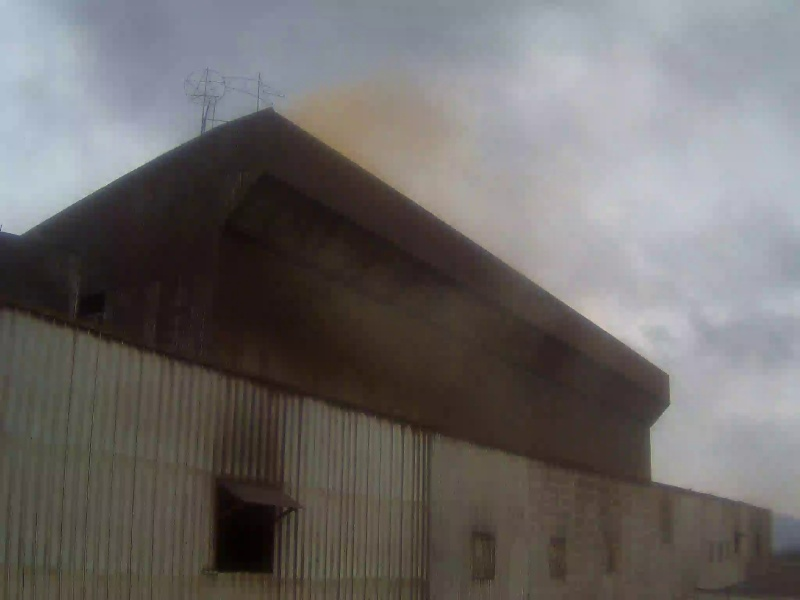bom: (9, 12, 270, 145)
ruim: (288, 61, 530, 435)
